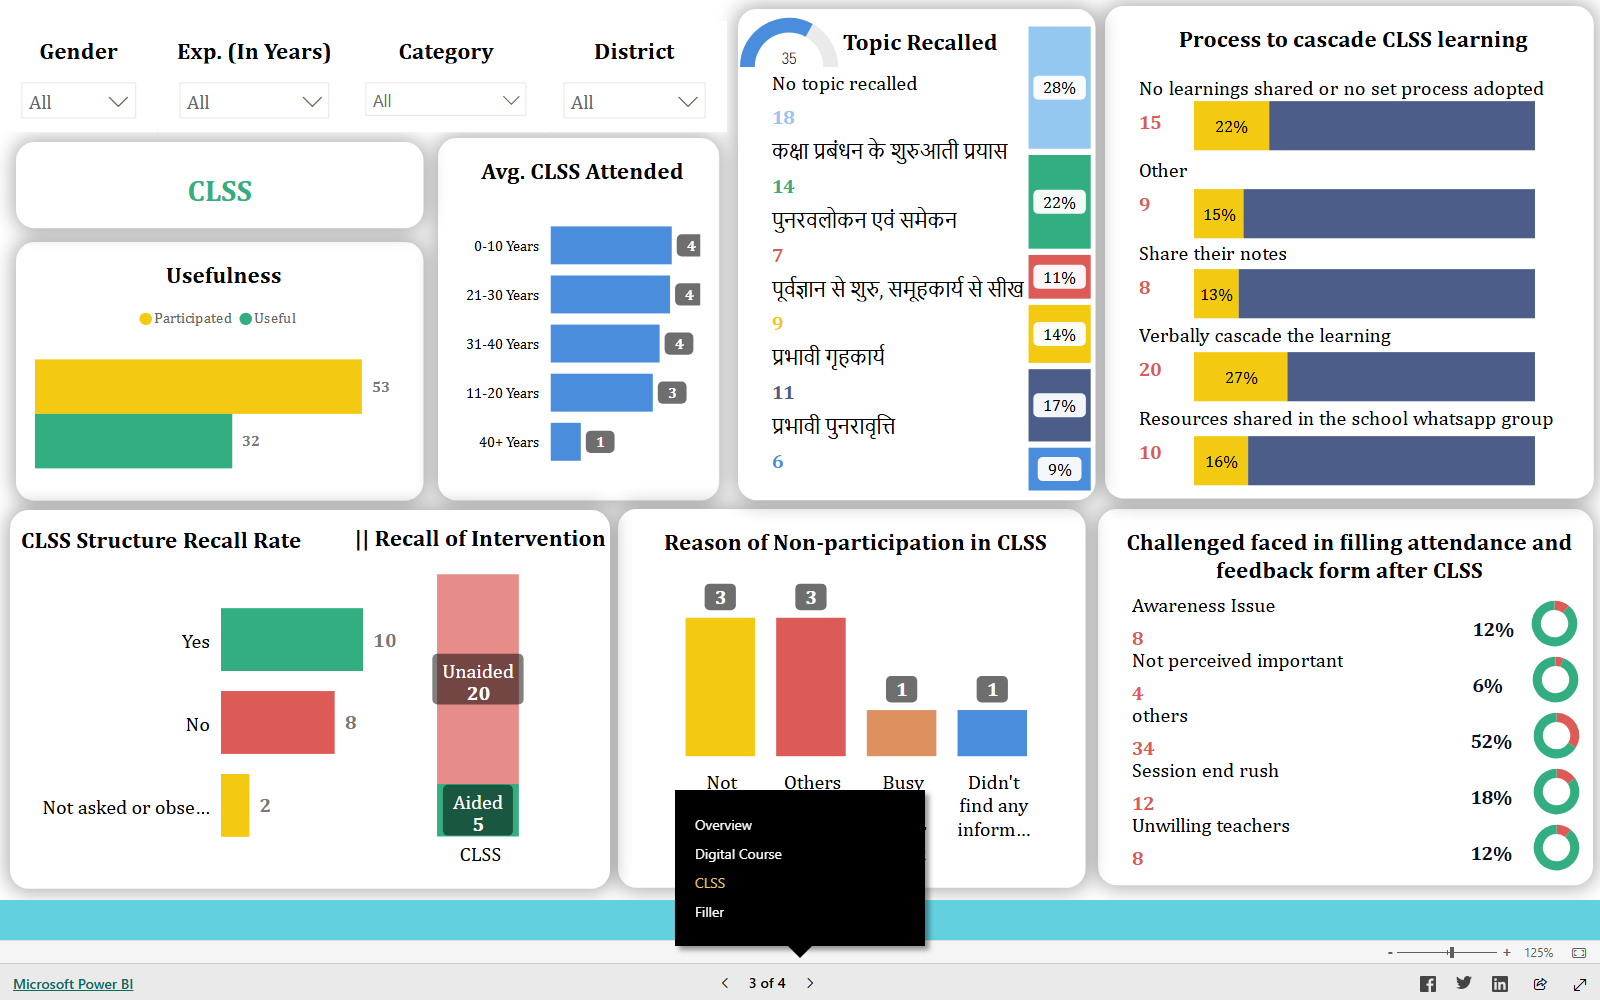

What the dashboard file says about the page in this screenshot:
{"tool":"powerbi","page":{"name":"CLSS","canvas":[1280,720],"ordinal":2},"visuals":[{"type":"cardVisual","title":"Process to cascade CLSS learning","fields":{"Data":["Sum(Quant_Structured.Processes to cascade CLSS learnings at school level/No learnings shared or no set process adopted)","Sum(Quant_Structured.Processes to cascade CLSS learnings at school level/Other)","Sum(Quant_Structured.Processes to cascade CLSS learnings at school level/Participating teacher share their notes)","Sum(Quant_Structured.Processes to cascade CLSS learnings at school level/Participating teacher verbally cascade the lear","Sum(Quant_Structured.Processes to cascade CLSS learnings at school level/Resources shared in the school whatsapp group)"]},"box":[883.8,5,391.1,393.9],"z":0,"group":"g2"},{"type":"slicer","title":"Gender","fields":{"Values":["Quant_Structured.Gender of respondent"]},"box":[0,16.6,125.6,88.9],"z":0,"group":"g10"},{"type":"clusteredBarChart","title":"Usefulness","fields":{"Category":["Training.Training"],"Y":["Training.Participated","Training.Useful"]},"box":[12.5,193.8,326.2,207],"z":0},{"type":"shape","box":[7.8,407.5,480,302.8],"z":0,"group":"g1"},{"type":"slicer","title":"Exp. (In Years)","fields":{"Values":["Quant_Structured.Experience Category"]},"box":[126.7,16.6,154.4,88.9],"z":1000,"group":"g10"},{"type":"hundredPercentStackedBarChart","fields":{"Y":["Sum(Quant_Structured.Processes to cascade CLSS learnings at school level/No learnings shared or no set process adopted)","Sum(Quant_Structured.Activities participated over 2025-26 academic year/CLSS)"]},"box":[942.9,56,296.8,81.1],"z":1000,"group":"g2"},{"type":"clusteredBarChart","title":"Avg. CLSS Attended","fields":{"Category":["Quant_Structured.Experience Category"],"Y":["Avg(Quant_Structured.CLSS Attended)"]},"box":[350,110,225,290],"z":1000},{"type":"slicer","title":"Category","fields":{"Values":["Quant_Structured.CategoryWise","Quant_Structured.Teacher_ID"]},"box":[275.6,16.6,163.3,88.9],"z":2000,"group":"g10"},{"type":"hundredPercentStackedBarChart","fields":{"Y":["Sum(Quant_Structured.Processes to cascade CLSS learnings at school level/Other)","Sum(Quant_Structured.Activities participated over 2025-26 academic year/CLSS)"]},"box":[942.9,126.7,296.8,81.1],"z":2000,"group":"g2"},{"type":"hundredPercentStackedBarChart","fields":{"Y":["Sum(Quant_Structured.Processes to cascade CLSS learnings at school level/No learnings shared or no set process adopted)","Sum(Quant_Structured.Activities participated over 2025-26 academic year/CLSS)"]},"box":[949.8,474.9,290.5,80.3],"z":2000},{"type":"hundredPercentStackedBarChart","fields":{"Y":["Sum(Quant_Structured.Processes to cascade CLSS learnings at school level/Participating teacher share their notes)","Sum(Quant_Structured.Activities participated over 2025-26 academic year/CLSS)"]},"box":[942.9,190.8,296.8,81.1],"z":3000,"group":"g2"},{"type":"cardVisual","title":"Challenged faced in filling attendance and feedback form after CLSS","fields":{"Data":["Sum(Quant_Structured.What challenges do they face in filling attendance and feedback form post the samwad?/Awareness Iss","Sum(Quant_Structured.What challenges do they face in filling attendance and feedback form post the samwad?/Not perceived","Sum(Quant_Structured.What challenges do they face in filling attendance and feedback form post the samwad?/others)","Sum(Quant_Structured.What challenges do they face in filling attendance and feedback form post the samwad?/Session end r","Sum(Quant_Structured.What challenges do they face in filling attendance and feedback form post the samwad?/Unwilling tea"]},"box":[878.5,407.5,396.2,301.2],"z":3000},{"type":"cardVisual","fields":{"Data":["Quant_Structured.title CLSS"]},"box":[12.5,113.8,326.2,68.8],"z":4000},{"type":"hundredPercentStackedBarChart","fields":{"Y":["Sum(Quant_Structured.Processes to cascade CLSS learnings at school level/Participating teacher verbally cascade the lear","Sum(Quant_Structured.Activities participated over 2025-26 academic year/CLSS)"]},"box":[942.9,257.2,296.8,81.1],"z":4000,"group":"g2"},{"type":"cardVisual","title":"Topic Recalled","fields":{"Data":["Sum(Quant_Structured.CLSS topics recalled/No topic recalled)","Sum(Quant_Structured.CLSS topics recalled/कक्षा प्रबंधन के शुरुआती प्रयास)","Sum(Quant_Structured.CLSS topics recalled/पुनरवलोकन एवं समेकन)","Sum(Quant_Structured.CLSS topics recalled/पूर्वज्ञान से शुरु, समूहकार्य से सीख)","Sum(Quant_Structured.CLSS topics recalled/प्रभावी गृहकार्य)","Sum(Quant_Structured.CLSS topics recalled/प्रभावी पुनरावृत्ति)"]},"box":[590.4,7.6,285.5,393.3],"z":5000,"group":"g4"},{"type":"hundredPercentStackedBarChart","fields":{"Y":["Sum(Quant_Structured.Processes to cascade CLSS learnings at school level/Resources shared in the school whatsapp group)","Sum(Quant_Structured.Activities participated over 2025-26 academic year/CLSS)"]},"box":[942.9,324.3,296.8,81.1],"z":5000,"group":"g2"},{"type":"columnChart","title":"Reason of Non-participation in CLSS","fields":{"Category":["Reason Clss.Attribute"],"Y":["Sum(Reason Clss.Value)"]},"box":[494.7,407.5,373.7,302.8],"z":5000},{"type":"group","id":"g1","title":"Group 1","box":[5,406,546.7,304.3],"z":6000},{"type":"group","id":"g2","title":"Group 2","box":[883.8,5,391.2,400],"z":7000},{"type":"group","id":"g3","title":"Group 4","box":[580.2,0,385.2,400.6],"z":8000},{"type":"group","id":"g4","title":"Group 3","box":[590.4,7.5,375,393.1],"z":9000,"group":"g3"},{"type":"barChart","title":"CLSS Structure Recall Rate","fields":{"Category":["EDS Filler data.CLSS Structure Recall Rate"],"Y":["CountNonNull(EDS Filler data.Name)"]},"box":[5,407.2,323.7,302.8],"z":9000,"group":"g1"},{"type":"group","id":"g5","title":"Group 5","box":[1161,458.3,117.5,80.8],"z":9000},{"type":"hundredPercentStackedColumnChart","fields":{"Y":["Sum(Quant_Structured.CLSS topics recalled/प्रभावी पुनरावृत्ति)","Sum(Quant_Structured.CLSS topics recalled/प्रभावी गृहकार्य)","Sum(Quant_Structured.CLSS topics recalled/पूर्वज्ञान से शुरु, समूहकार्य से सीख)","Sum(Quant_Structured.CLSS topics recalled/पुनरवलोकन एवं समेकन)","Sum(Quant_Structured.CLSS topics recalled/कक्षा प्रबंधन के शुरुआती प्रयास)","Sum(Quant_Structured.CLSS topics recalled/No topic recalled)"]},"box":[736,7.5,229.3,391.2],"z":9001,"group":"g4"},{"type":"gauge","fields":{"MaxValue":["Sum(Quant_Structured.Activities participated over 2025-26 academic year/CLSS)"],"Y":["Quant_Structured.gauge value"]},"box":[580.2,0,102.5,67.8],"z":10000,"group":"g3"},{"type":"group","id":"g6","title":"Group 6","box":[1160.5,503,118.6,80.9],"z":10000},{"type":"columnChart","title":"|| Recall of Intervention","fields":{"Category":["Aided/Unaided.Value"],"Series":["Aided/Unaided.Type"],"Y":["CountNonNull(Aided/Unaided.Type)"]},"box":[216.9,406,334.8,302.8],"z":11000,"group":"g1"},{"type":"donutChart","fields":{"Y":["Sum(Quant_Structured.What challenges do they face in filling attendance and feedback form post the samwad?/Awareness Iss","Quant_Structured.Total Challenges"]},"box":[1208.8,458.3,69.6,80.9],"z":11000,"group":"g5"},{"type":"group","id":"g7","title":"Group 7","box":[1158.9,547.9,121.1,80.9],"z":11000},{"type":"donutChart","fields":{"Y":["Sum(Quant_Structured.Challenges/Not perceived important)","Quant_Structured.Total Challenges"]},"box":[1209.5,503,69.6,80.9],"z":12000,"group":"g6"},{"type":"group","id":"g8","title":"Group 8","box":[1158.9,592.7,121.1,80.9],"z":12000},{"type":"donutChart","fields":{"Y":["Sum(Quant_Structured.Challenegs/others)","Quant_Structured.Total Challenges"]},"box":[1210.3,547.9,69.6,80.9],"z":13000,"group":"g7"},{"type":"group","id":"g9","title":"Group 9","box":[1159.2,637.5,120.8,80.8],"z":13000},{"type":"group","id":"g10","title":"Group 10","box":[0,16.6,581.1,88.9],"z":14000},{"type":"donutChart","fields":{"Y":["Sum(Quant_Structured.Challenges/Session end rush for teachers to leave the venue)","Quant_Structured.Total Challenges"]},"box":[1210.3,592.7,69.6,80.9],"z":14000,"group":"g8"},{"type":"actionButton","title":"Insight Clss","box":[17.5,120.9,90,54.9],"z":14002},{"type":"actionButton","title":"Dashboard clss","box":[216.9,120.9,117.2,54.9],"z":14003},{"type":"cardVisual","fields":{"Data":["Quant_Structured.Not Per %"]},"box":[1160.5,524.3,80,38.4],"z":16000,"group":"g6"},{"type":"cardVisual","fields":{"Data":["Quant_Structured.Awareness %"]},"box":[1161,480.4,80,36.8],"z":17000,"group":"g5"},{"type":"slicer","title":"District","fields":{"Values":["Quant_Structured.District of respondent teacher"]},"box":[433.3,16.6,147.8,88.9],"z":17001,"group":"g10"},{"type":"cardVisual","fields":{"Data":["Quant_Structured.other %"]},"box":[1158.9,569.2,80,38.4],"z":18000,"group":"g7"},{"type":"cardVisual","fields":{"Data":["Quant_Structured.session end %"]},"box":[1158.9,614,80,38.4],"z":18001,"group":"g8"},{"type":"cardVisual","fields":{"Data":["Quant_Structured.Unwilling %"]},"box":[1159.2,658.8,80,38.4],"z":18002,"group":"g9"},{"type":"donutChart","fields":{"Y":["Sum(Quant_Structured.Challenges/Unwilling teachers)","Quant_Structured.Total Challenges"]},"box":[1210.6,637.5,69.6,80.9],"z":18007,"group":"g9"}]}

Visuals, with their boxes on the page's 1280x720 design canvas (x1, y1, x2, y2). These are canvas units, not pixel positions in the 1600x1000 screenshot, which may show the page scaled, cropped or inside an application window:
"Process to cascade CLSS learning" cardVisual: bbox=(884, 5, 1275, 399)
"Gender" slicer: bbox=(0, 17, 126, 106)
"Usefulness" clusteredBarChart: bbox=(12, 194, 339, 401)
shape: bbox=(8, 408, 488, 710)
"Exp. (In Years)" slicer: bbox=(127, 17, 281, 106)
hundredPercentStackedBarChart - Sum(Quant_Structured.Processes to cascade CLSS learnings at school level/No learnings shared or no set process adopted) x Sum(Quant_Structured.Activities participated over 2025-26 academic year/CLSS): bbox=(943, 56, 1240, 137)
"Avg. CLSS Attended" clusteredBarChart: bbox=(350, 110, 575, 400)
"Category" slicer: bbox=(276, 17, 439, 106)
hundredPercentStackedBarChart - Sum(Quant_Structured.Processes to cascade CLSS learnings at school level/Other) x Sum(Quant_Structured.Activities participated over 2025-26 academic year/CLSS): bbox=(943, 127, 1240, 208)
hundredPercentStackedBarChart - Sum(Quant_Structured.Processes to cascade CLSS learnings at school level/No learnings shared or no set process adopted) x Sum(Quant_Structured.Activities participated over 2025-26 academic year/CLSS): bbox=(950, 475, 1240, 555)
hundredPercentStackedBarChart - Sum(Quant_Structured.Processes to cascade CLSS learnings at school level/Participating teacher share their notes) x Sum(Quant_Structured.Activities participated over 2025-26 academic year/CLSS): bbox=(943, 191, 1240, 272)
"Challenged faced in filling attendance and feedback form after CLSS" cardVisual: bbox=(878, 408, 1275, 709)
cardVisual - Quant_Structured.title CLSS: bbox=(12, 114, 339, 183)
hundredPercentStackedBarChart - Sum(Quant_Structured.Processes to cascade CLSS learnings at school level/Participating teacher verbally cascade the lear x Sum(Quant_Structured.Activities participated over 2025-26 academic year/CLSS): bbox=(943, 257, 1240, 338)
"Topic Recalled" cardVisual: bbox=(590, 8, 876, 401)
hundredPercentStackedBarChart - Sum(Quant_Structured.Processes to cascade CLSS learnings at school level/Resources shared in the school whatsapp group) x Sum(Quant_Structured.Activities participated over 2025-26 academic year/CLSS): bbox=(943, 324, 1240, 405)
"Reason of Non-participation in CLSS" columnChart: bbox=(495, 408, 868, 710)
"Group 1" group: bbox=(5, 406, 552, 710)
"Group 2" group: bbox=(884, 5, 1275, 405)
"Group 4" group: bbox=(580, 0, 965, 401)
"Group 3" group: bbox=(590, 8, 965, 401)
"CLSS Structure Recall Rate" barChart: bbox=(5, 407, 329, 710)
"Group 5" group: bbox=(1161, 458, 1278, 539)
hundredPercentStackedColumnChart - Sum(Quant_Structured.CLSS topics recalled/प्रभावी पुनरावृत्ति) x Sum(Quant_Structured.CLSS topics recalled/प्रभावी गृहकार्य): bbox=(736, 8, 965, 399)
gauge - Sum(Quant_Structured.Activities participated over 2025-26 academic year/CLSS) x Quant_Structured.gauge value: bbox=(580, 0, 683, 68)
"Group 6" group: bbox=(1160, 503, 1279, 584)
"|| Recall of Intervention" columnChart: bbox=(217, 406, 552, 709)
donutChart - Sum(Quant_Structured.What challenges do they face in filling attendance and feedback form post the samwad?/Awareness Iss x Quant_Structured.Total Challenges: bbox=(1209, 458, 1278, 539)
"Group 7" group: bbox=(1159, 548, 1280, 629)
donutChart - Sum(Quant_Structured.Challenges/Not perceived important) x Quant_Structured.Total Challenges: bbox=(1210, 503, 1279, 584)
"Group 8" group: bbox=(1159, 593, 1280, 674)
donutChart - Sum(Quant_Structured.Challenegs/others) x Quant_Structured.Total Challenges: bbox=(1210, 548, 1280, 629)
"Group 9" group: bbox=(1159, 638, 1280, 718)
"Group 10" group: bbox=(0, 17, 581, 106)
donutChart - Sum(Quant_Structured.Challenges/Session end rush for teachers to leave the venue) x Quant_Structured.Total Challenges: bbox=(1210, 593, 1280, 674)
"Insight Clss" actionButton: bbox=(18, 121, 108, 176)
"Dashboard clss" actionButton: bbox=(217, 121, 334, 176)
cardVisual - Quant_Structured.Not Per %: bbox=(1160, 524, 1240, 563)
cardVisual - Quant_Structured.Awareness %: bbox=(1161, 480, 1241, 517)
"District" slicer: bbox=(433, 17, 581, 106)
cardVisual - Quant_Structured.other %: bbox=(1159, 569, 1239, 608)
cardVisual - Quant_Structured.session end %: bbox=(1159, 614, 1239, 652)
cardVisual - Quant_Structured.Unwilling %: bbox=(1159, 659, 1239, 697)
donutChart - Sum(Quant_Structured.Challenges/Unwilling teachers) x Quant_Structured.Total Challenges: bbox=(1211, 638, 1280, 718)
